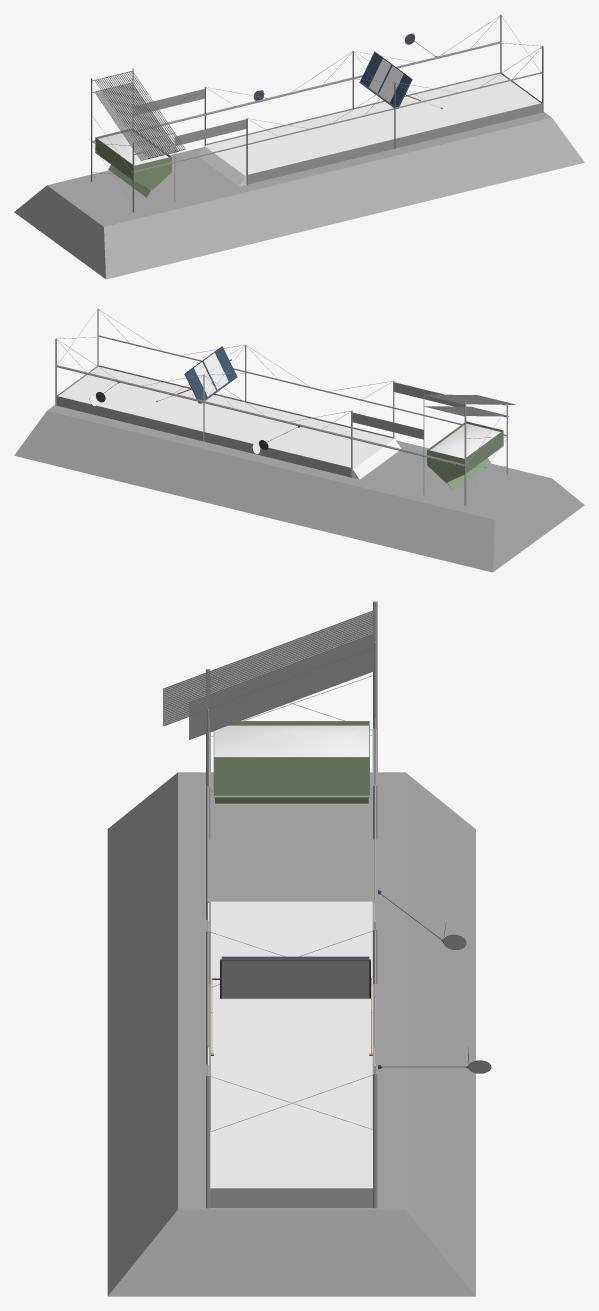
Rendered from MeltInPlaceStation.glb.
3 renders of one model, top to bottom at view 1: azimuth 30°, elevation 25°; view 2: azimuth 150°, elevation 25°; view 3: azimuth 270°, elevation 25°, orthographic. The views are drawn at different scales.
Parts seen in each view (by area): view 1: MIP_structure_M, Regolith_Bed_M, MIP-screen-bottom_M, MIP-screen-top_M, MIP-hopper_A, MIP-hopper-powder_A, MIP_square_lens_A, MIP_square_lens_shutter_N_A; view 2: MIP_structure_M, Regolith_Bed_M, MIP-hopper_A, MIP-hopper-powder_A, MIP_square_lens_A, MIP-screen-top_M, MIP-screen-bottom_M, MIP_square_lens_shutter_N_A; view 3: MIP_structure_M, Regolith_Bed_M, MIP-screen-top_M, MIP-hopper_A, MIP_square_lens_A, MIP-screen-bottom_M, MIP-hopper-powder_A.
Part boxes in pixels (x1=…): MIP_structure_M: x1=14, y1=14, x2=584, y2=279; Regolith_Bed_M: x1=197, y1=74, x2=540, y2=186; MIP-screen-bottom_M: x1=92, y1=82, x2=178, y2=160; MIP-screen-top_M: x1=92, y1=70, x2=185, y2=158; MIP-hopper_A: x1=95, y1=128, x2=171, y2=197; MIP-hopper-powder_A: x1=98, y1=131, x2=168, y2=165; MIP_square_lens_A: x1=359, y1=51, x2=412, y2=109; MIP_square_lens_shutter_N_A: x1=360, y1=52, x2=382, y2=87; MIP_structure_M: x1=14, y1=308, x2=584, y2=572; Regolith_Bed_M: x1=58, y1=367, x2=401, y2=479; MIP-hopper_A: x1=427, y1=421, x2=503, y2=490; MIP-hopper-powder_A: x1=430, y1=423, x2=500, y2=458; MIP_square_lens_A: x1=184, y1=346, x2=237, y2=403; MIP-screen-top_M: x1=424, y1=394, x2=515, y2=405; MIP-screen-bottom_M: x1=424, y1=406, x2=508, y2=417; MIP_square_lens_shutter_N_A: x1=185, y1=368, x2=207, y2=402; MIP_structure_M: x1=107, y1=601, x2=475, y2=1296; Regolith_Bed_M: x1=208, y1=901, x2=375, y2=1188; MIP-screen-top_M: x1=163, y1=607, x2=376, y2=726; MIP-hopper_A: x1=213, y1=721, x2=369, y2=803; MIP_square_lens_A: x1=212, y1=956, x2=371, y2=998; MIP-screen-bottom_M: x1=189, y1=634, x2=376, y2=739; MIP-hopper-powder_A: x1=214, y1=725, x2=368, y2=756.
Size of what is drawn, in the model's own units: 9.72 by 2.7 by 3.37.
